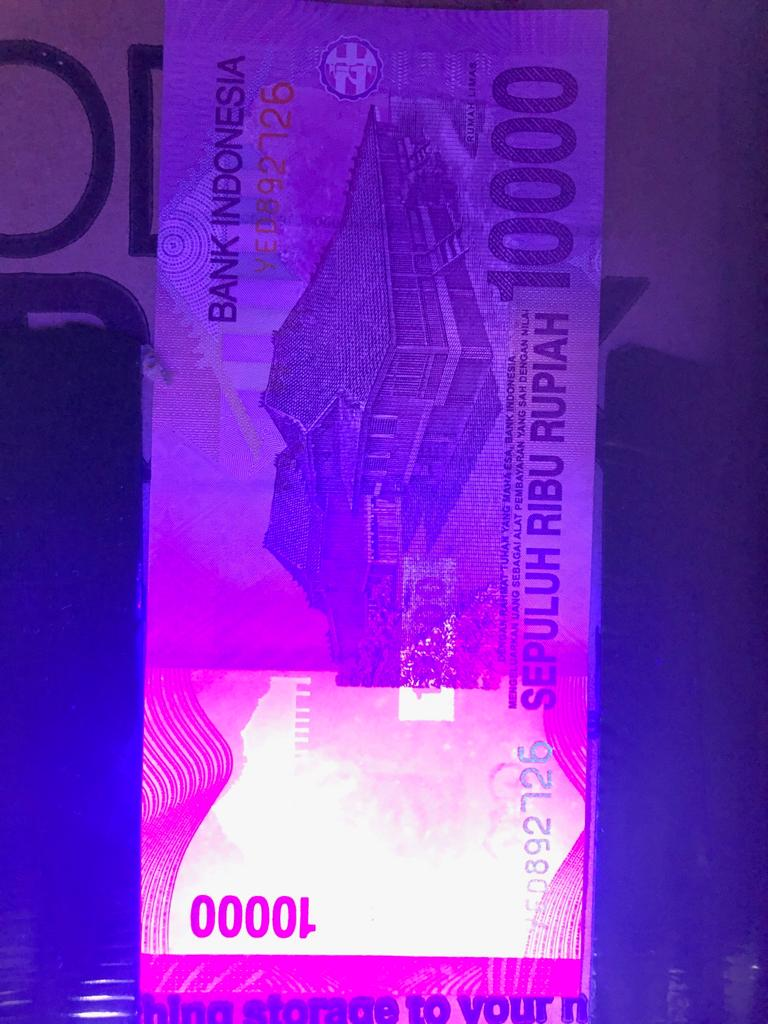10_RIBU_ASLI: (391, 545, 470, 737)
